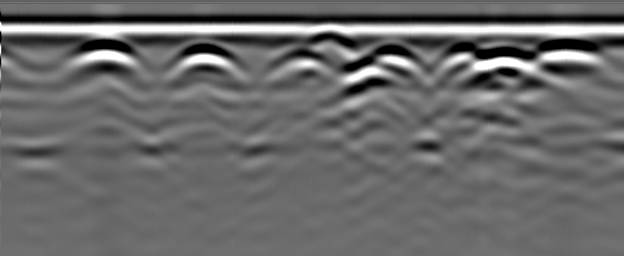pipe: (308, 29, 355, 46)
steel: (172, 43, 237, 78), (536, 40, 599, 72), (75, 40, 136, 73), (478, 46, 531, 80), (271, 47, 330, 77), (368, 42, 425, 67)
